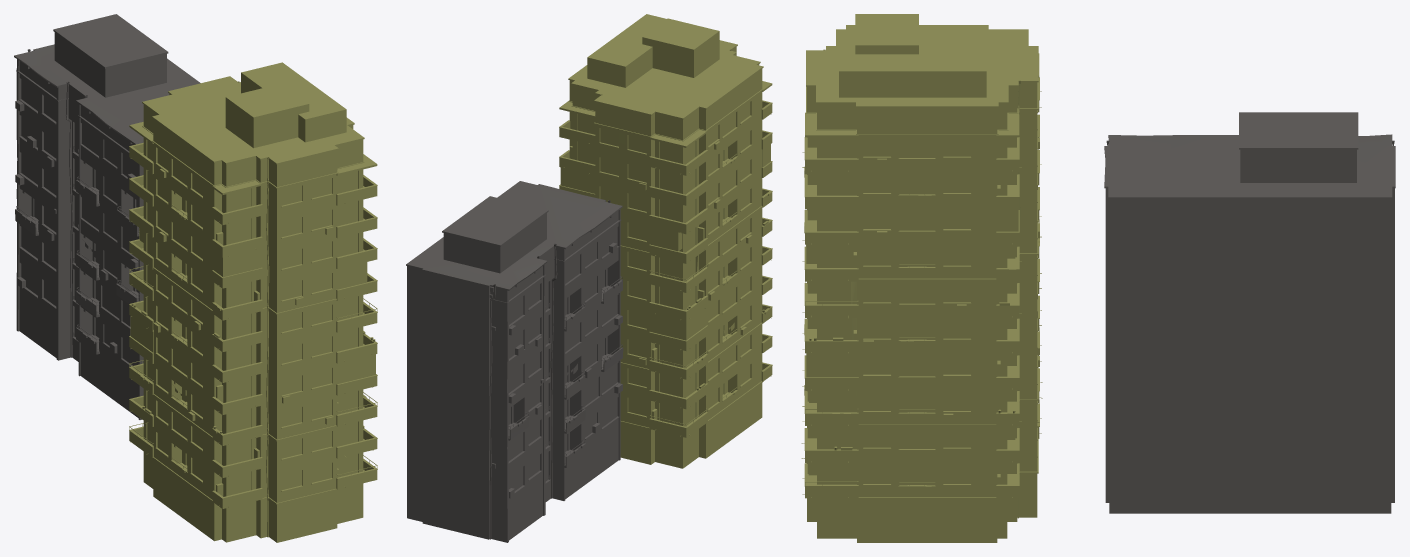
File: builds.fbx
The picture shows the model from 3 angles, left to right: view 1: azimuth 30°, elevation 25°; view 2: azimuth 150°, elevation 25°; view 3: azimuth 270°, elevation 25°; orthographic projection. The views are drawn at different scales.
Parts seen in each view (by area): view 1: builds_HL_ALEX:builds3, builds_HL_ALEX:builds1; view 2: builds_HL_ALEX:builds3, builds_HL_ALEX:builds1; view 3: builds_HL_ALEX:builds3, builds_HL_ALEX:builds1.
Boxes of the visible parts, <box> form: builds_HL_ALEX:builds3: <box>129,62,377,542</box>; builds_HL_ALEX:builds1: <box>14,14,200,419</box>; builds_HL_ALEX:builds3: <box>559,14,772,468</box>; builds_HL_ALEX:builds1: <box>406,181,623,542</box>; builds_HL_ALEX:builds3: <box>801,14,1042,542</box>; builds_HL_ALEX:builds1: <box>1104,112,1395,513</box>.
Size of the model in its own units: 36.23 by 92.74 by 106.
